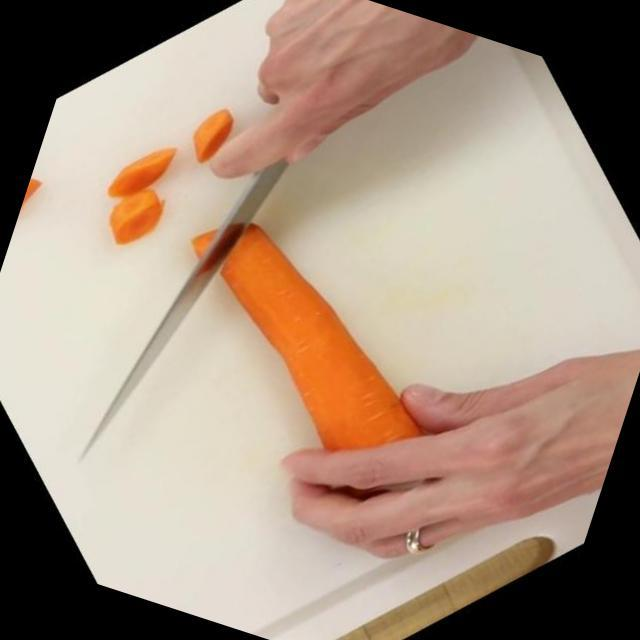carrot: (124, 156, 488, 519)
